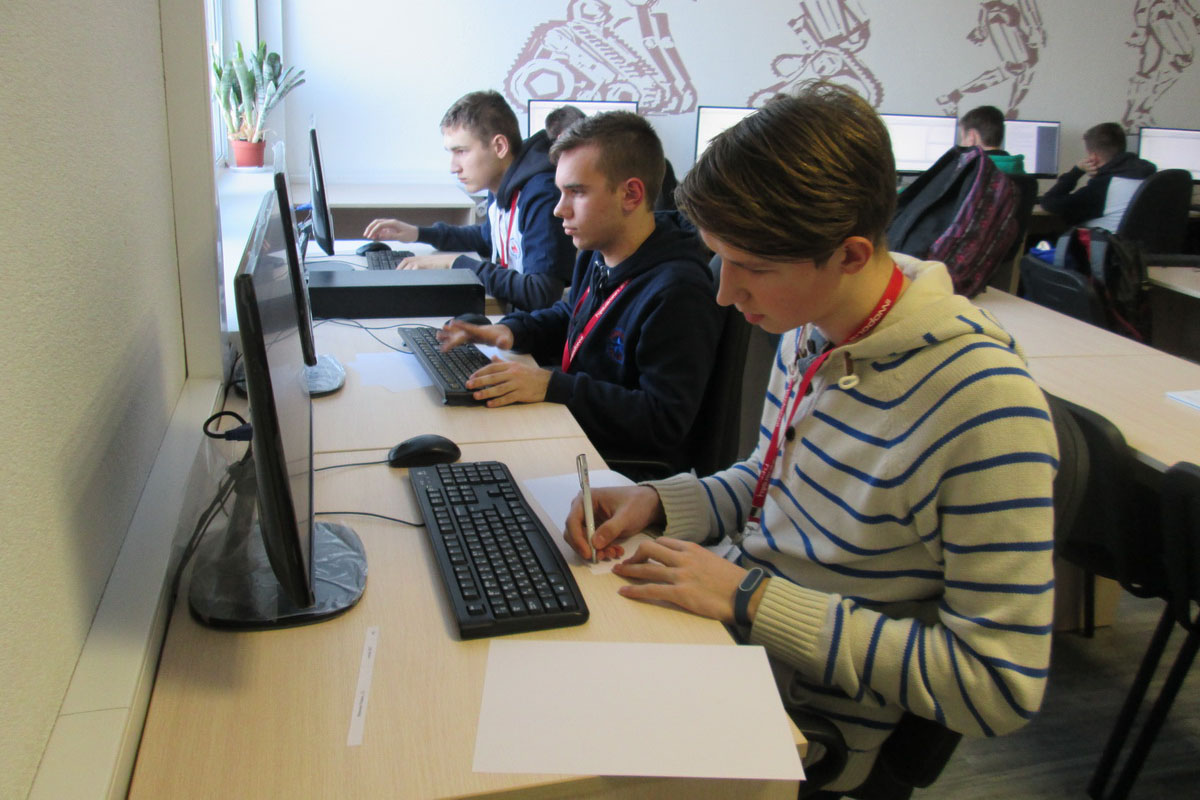students: (563, 82, 1056, 796), (437, 108, 724, 462), (364, 88, 578, 312), (1041, 121, 1164, 277), (959, 106, 1035, 283)
